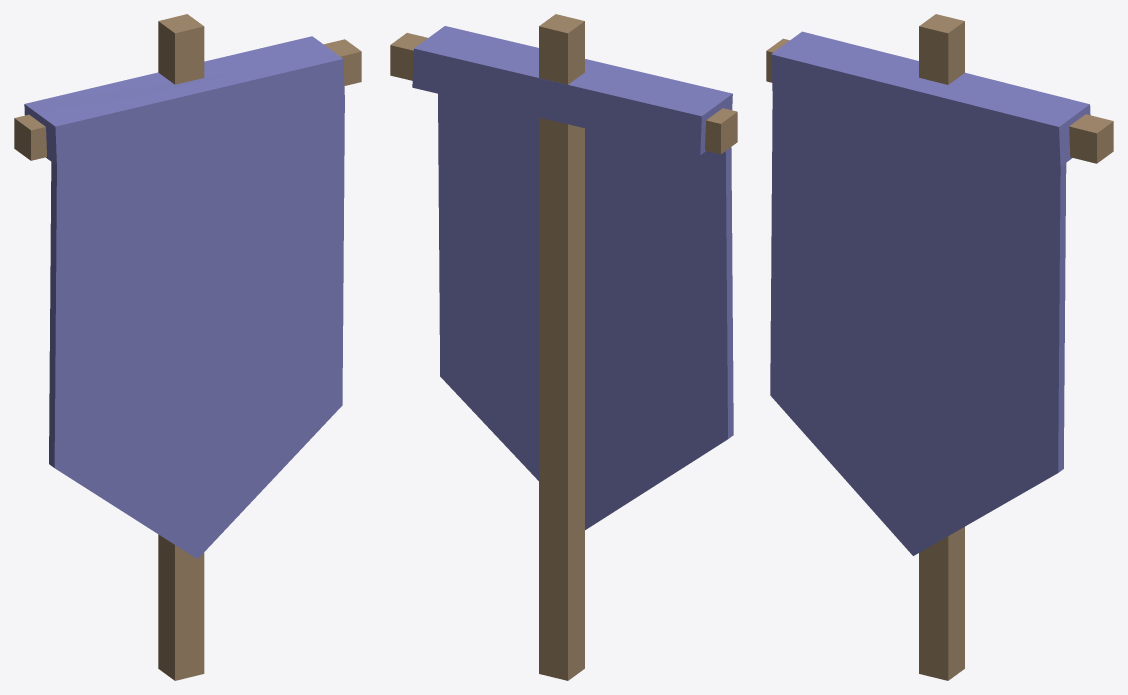
Rendered from Banner.fbx.
3 renders of one model, left to right at view 1: azimuth 30°, elevation 25°; view 2: azimuth 150°, elevation 25°; view 3: azimuth 330°, elevation 25°, orthographic.
Visible parts, largest first — view 1: Prop_Banner_Blue_01, Prop_Banner_Blue_01.001; view 2: Prop_Banner_Blue_01, Prop_Banner_Blue_01.001; view 3: Prop_Banner_Blue_01, Prop_Banner_Blue_01.001.
Boxes of the visible parts, x1,y1,x2,y2 form: Prop_Banner_Blue_01: (24, 36, 344, 558); Prop_Banner_Blue_01.001: (14, 14, 361, 680); Prop_Banner_Blue_01: (412, 26, 733, 529); Prop_Banner_Blue_01.001: (390, 14, 737, 680); Prop_Banner_Blue_01: (770, 31, 1090, 555); Prop_Banner_Blue_01.001: (766, 14, 1113, 680).
Size of the model in its own units: 296 by 554 by 48.21.
